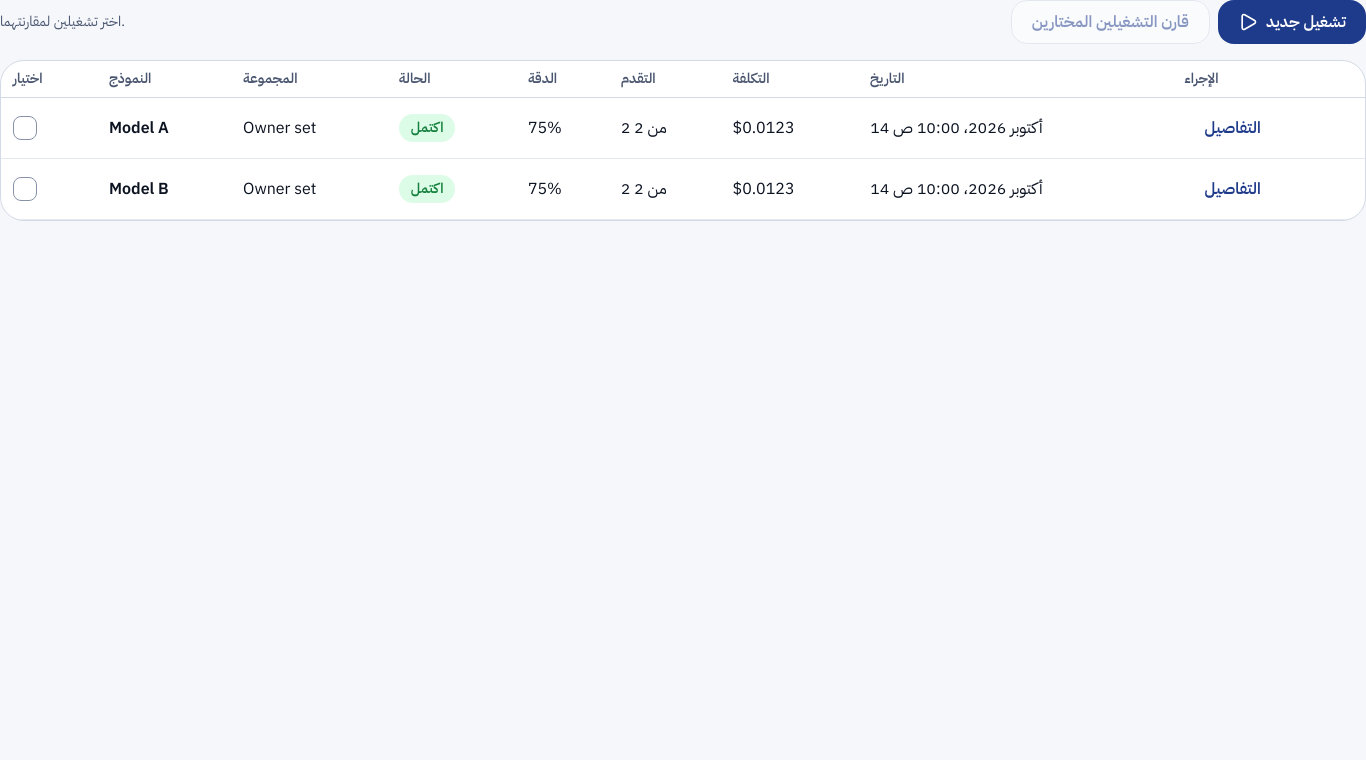
Test: EvalsRunsPanel › lists runs, enables comparison only for two picked runs, and shows the comparison table
The image size is (1366, 760).
Check: the column heading "Model A" is shown, box [97, 98, 231, 158]
Check: the button "قارن التشغيلين المختارين" is disabled, box [1011, 0, 1210, 44]
Click the checkbox next to "Model A": click(25, 128) [13, 116, 37, 140]
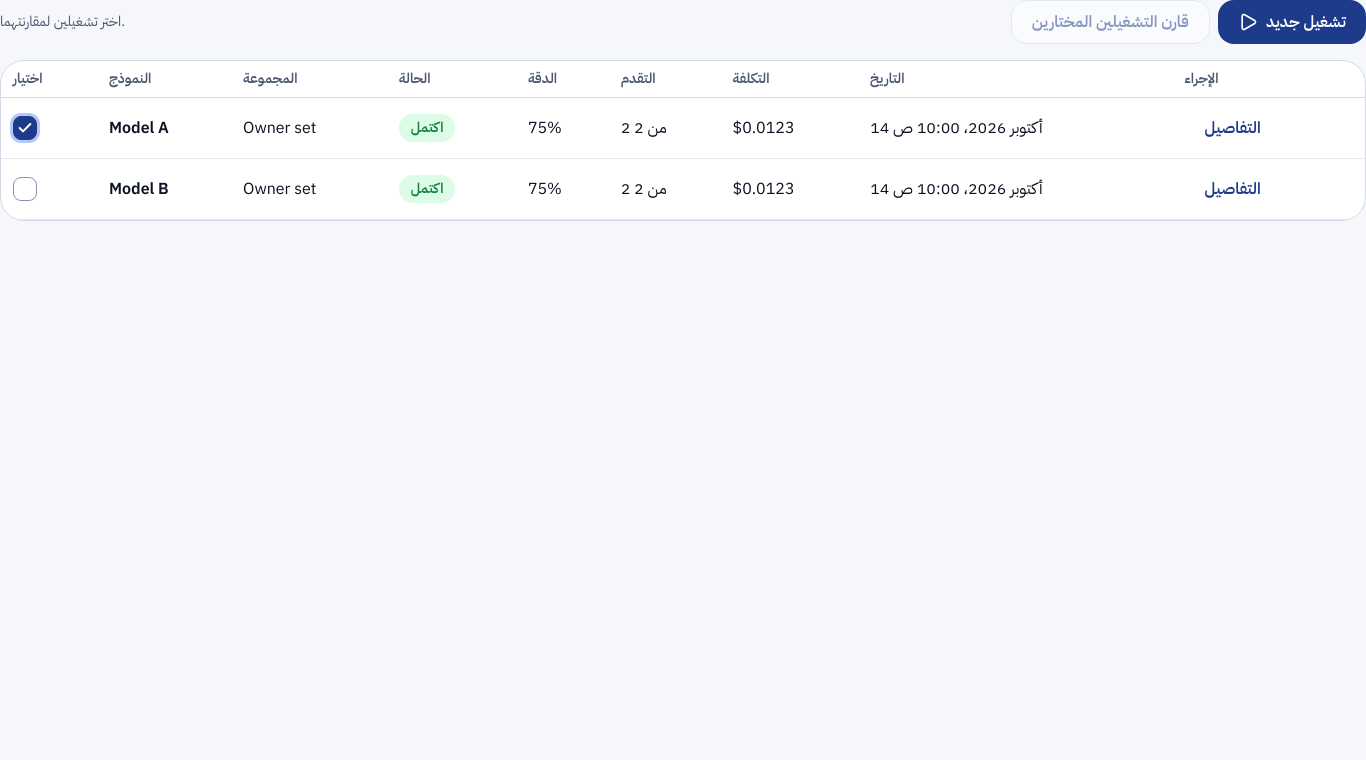
Check: the button "قارن التشغيلين المختارين" is disabled, box [1011, 0, 1210, 44]
Click the checkbox next to "Model B": click(25, 189) [13, 177, 37, 201]
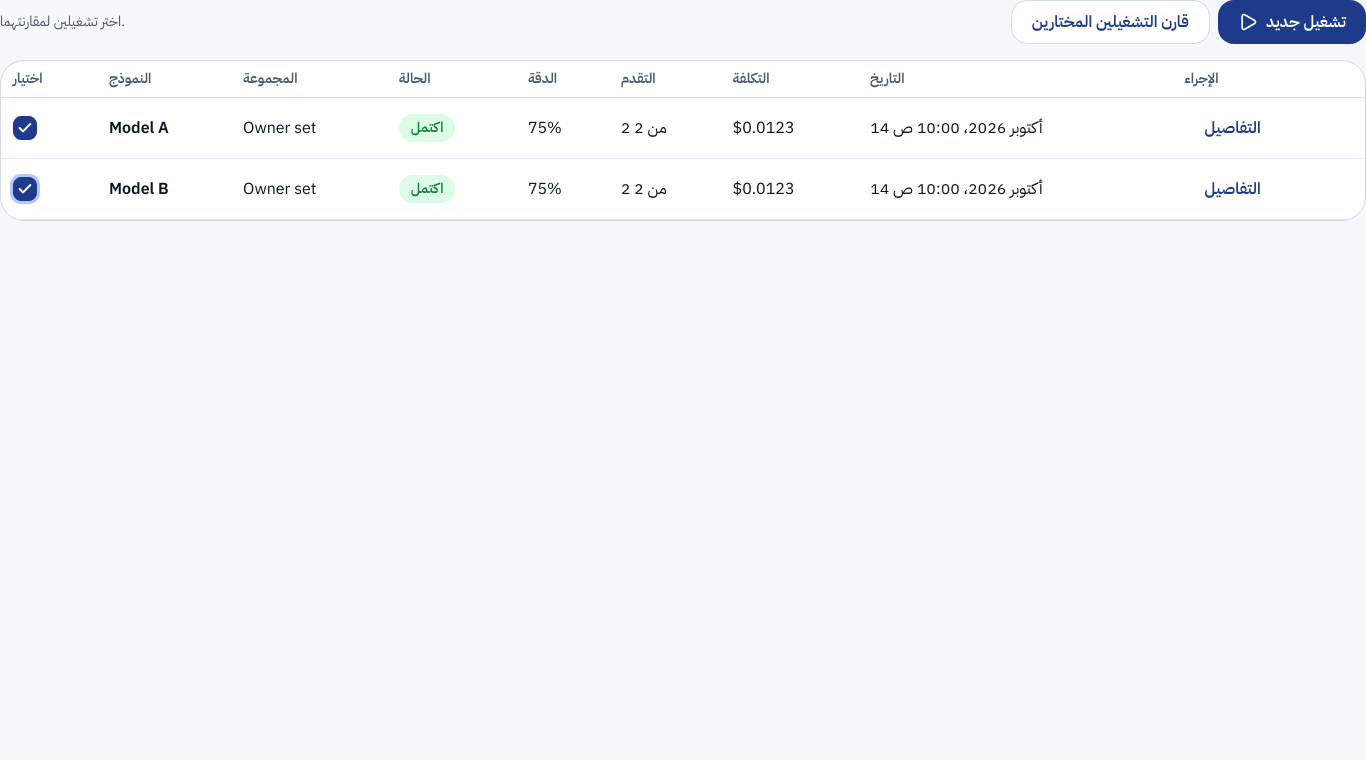
Check: the button "قارن التشغيلين المختارين" is enabled
Click the button "قارن التشغيلين المختارين": click(1110, 22) [1011, 0, 1210, 44]
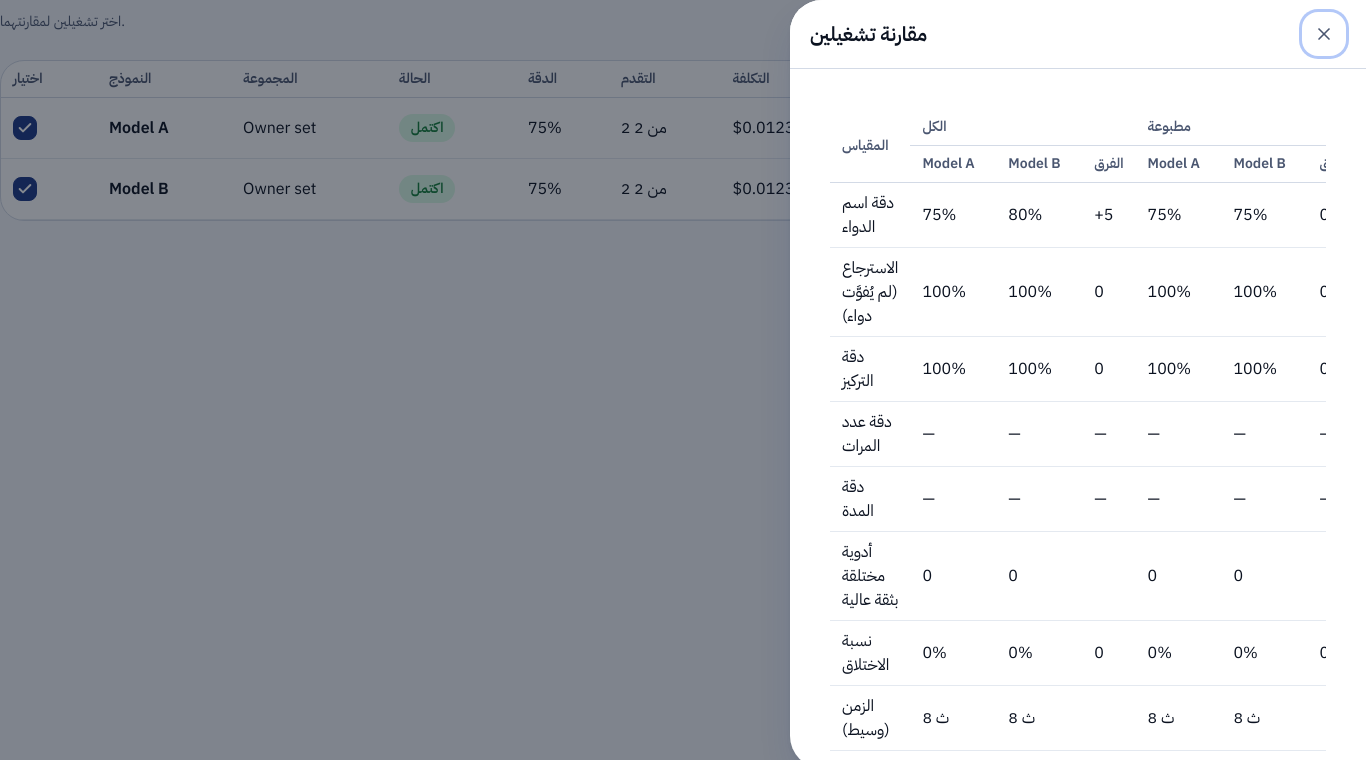
Check: the text "+5" is shown, box [1082, 183, 1136, 248]
